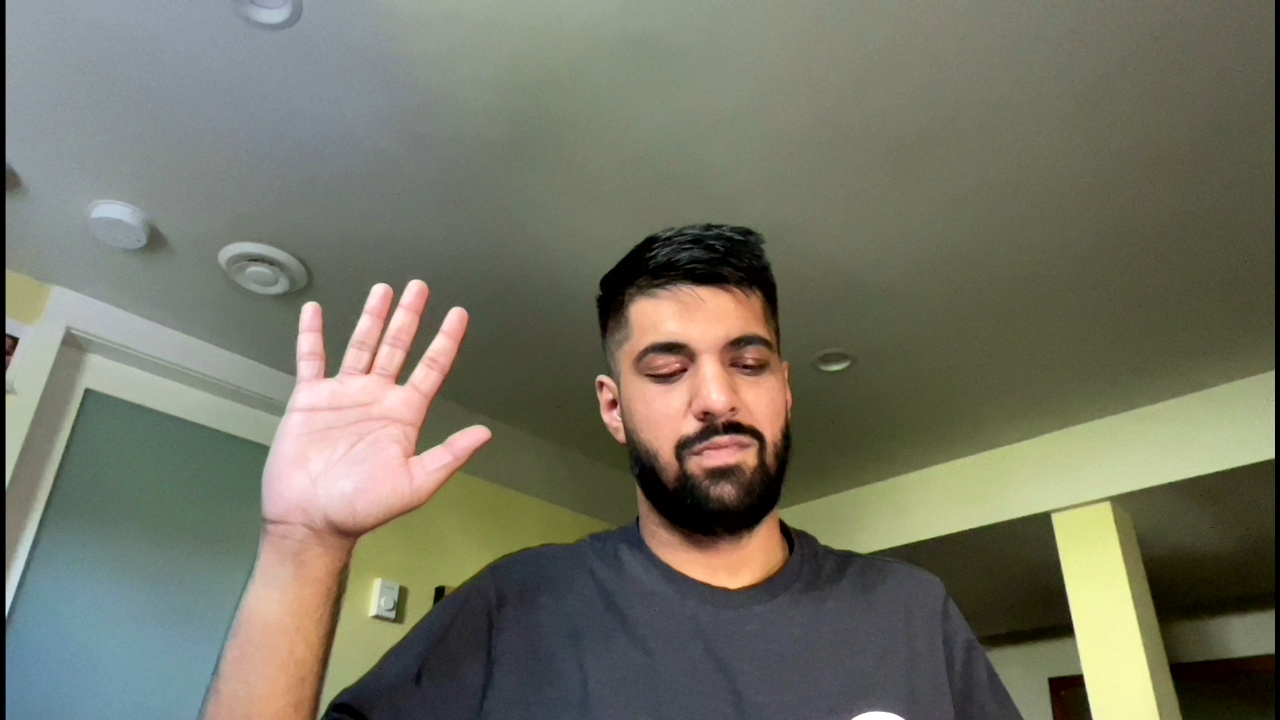Hey!: (240, 273, 502, 545)
